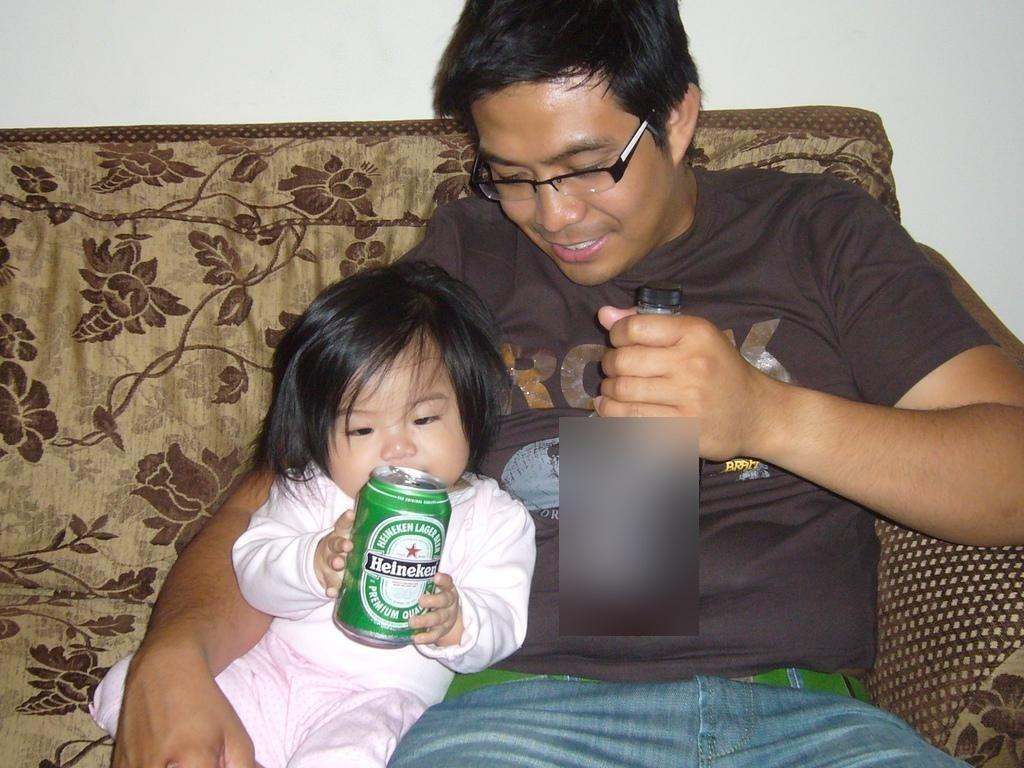tin can: (330, 463, 455, 651)
